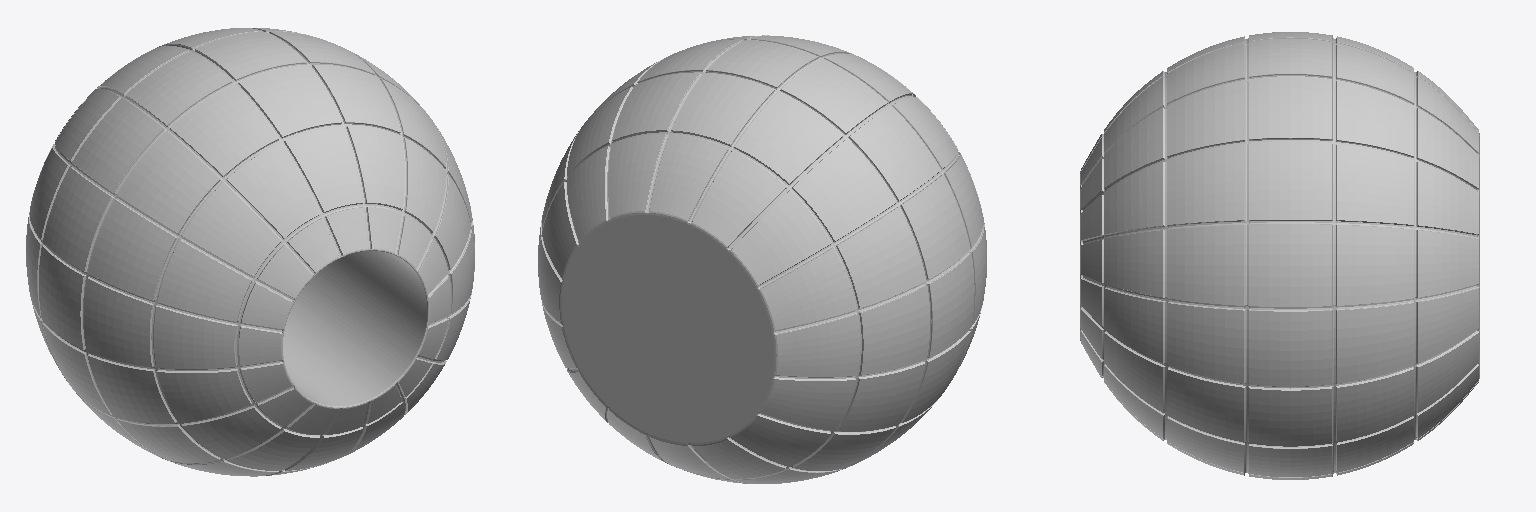
The picture shows the model from 3 angles: view 1: azimuth 30°, elevation 25°; view 2: azimuth 150°, elevation 25°; view 3: azimuth 270°, elevation 25°; orthographic projection.
Visible parts, largest first — view 1: 15977_Sphere_with_Grid_v1; view 2: 15977_Sphere_with_Grid_v1; view 3: 15977_Sphere_with_Grid_v1.
Boxes of the visible parts, x1,y1,x2,y2 form: 15977_Sphere_with_Grid_v1: [26, 28, 474, 476]; 15977_Sphere_with_Grid_v1: [538, 35, 986, 483]; 15977_Sphere_with_Grid_v1: [1080, 32, 1479, 479].
Bounding box in the file's own units: 3.95 × 3.95 × 3.52.